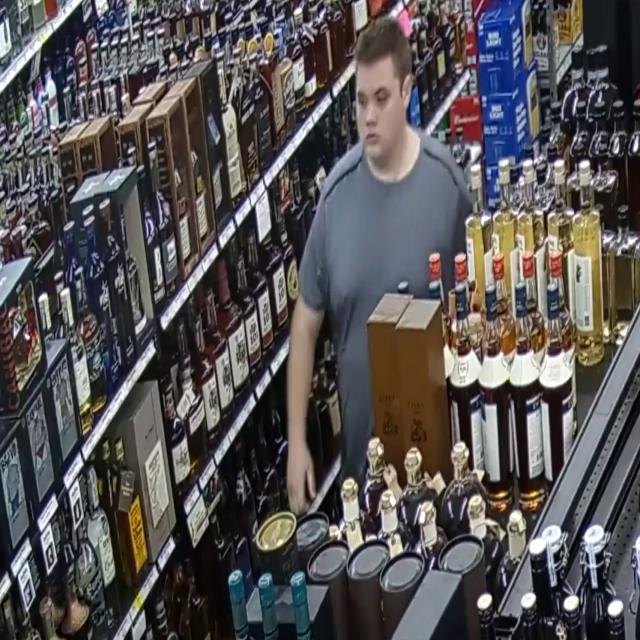normal: (266, 7, 478, 503)
